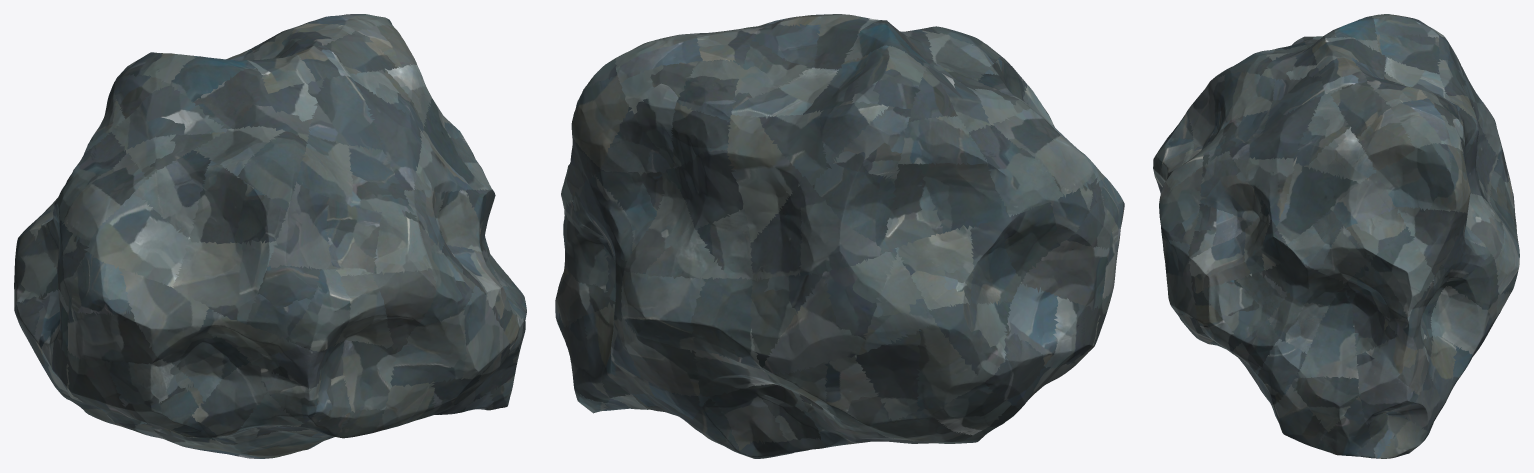
The model's file is Asteroid2.glb.
The picture shows the model from 3 angles, left to right: view 1: azimuth 30°, elevation 25°; view 2: azimuth 150°, elevation 25°; view 3: azimuth 270°, elevation 25°; orthographic projection. The views are drawn at different scales.
Parts seen in each view (by area): view 1: Node #0; view 2: Node #0; view 3: Node #0.
Boxes of the visible parts, x1=… form: Node #0: x1=14, y1=14, x2=526, y2=458; Node #0: x1=555, y1=14, x2=1124, y2=458; Node #0: x1=1153, y1=14, x2=1519, y2=458.
Size of the model in its own units: 2 by 1.63 by 1.64.
1 material, 1 textured.
